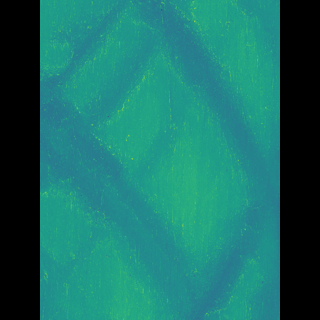Loch: (137, 0, 236, 183), (69, 0, 139, 219), (171, 195, 243, 319)
